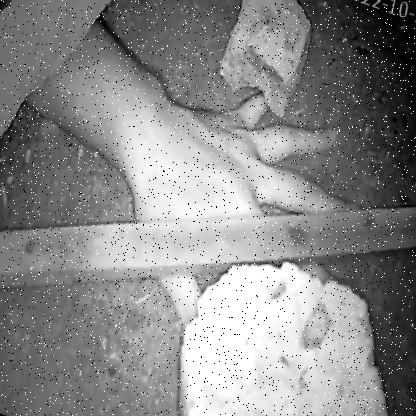hand: (56, 64, 376, 340)
